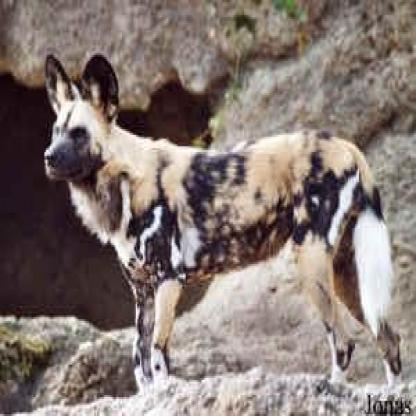African_hunting_dog: (39, 46, 405, 395)
